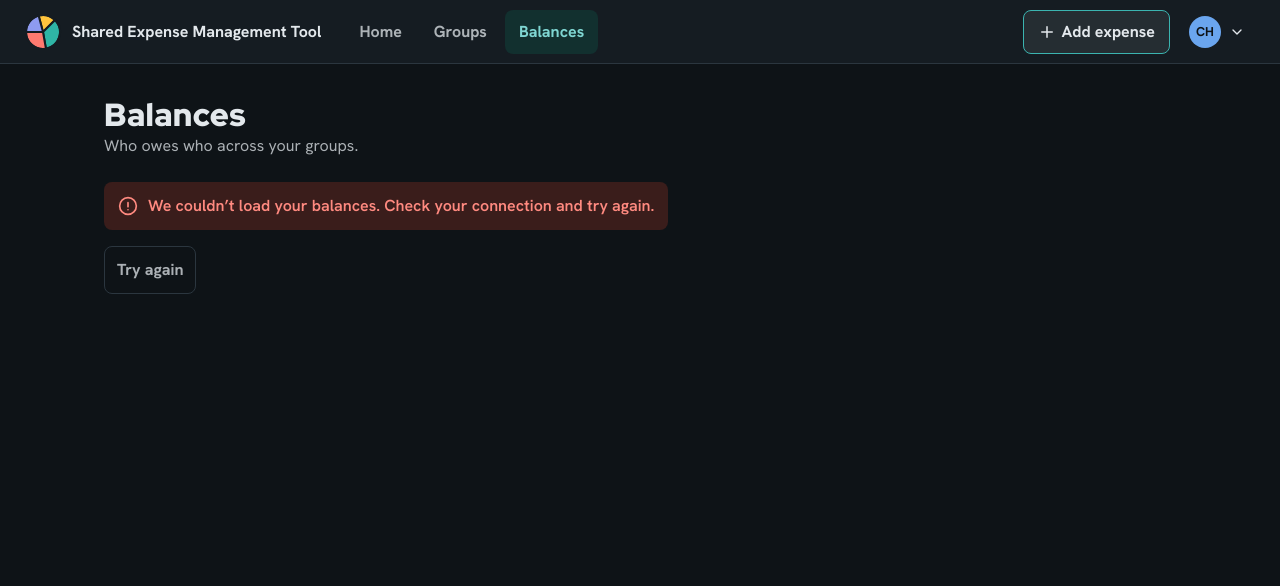
Balances screen: problems › offers Try again when the balances cannot be loaded
What coordinates should you click on to do the following:
click the button "Try again"
I would click on:
 (150, 270)
Its box is [104, 246, 196, 294].
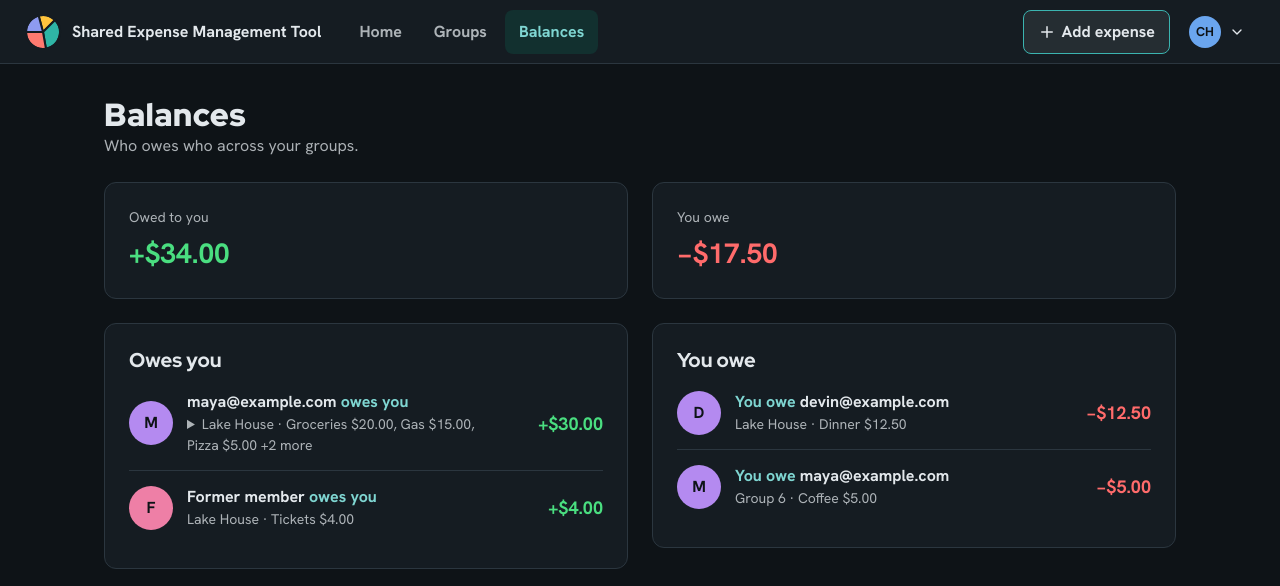
Result: the heading "Owes you" is shown at [129, 347, 222, 373]
